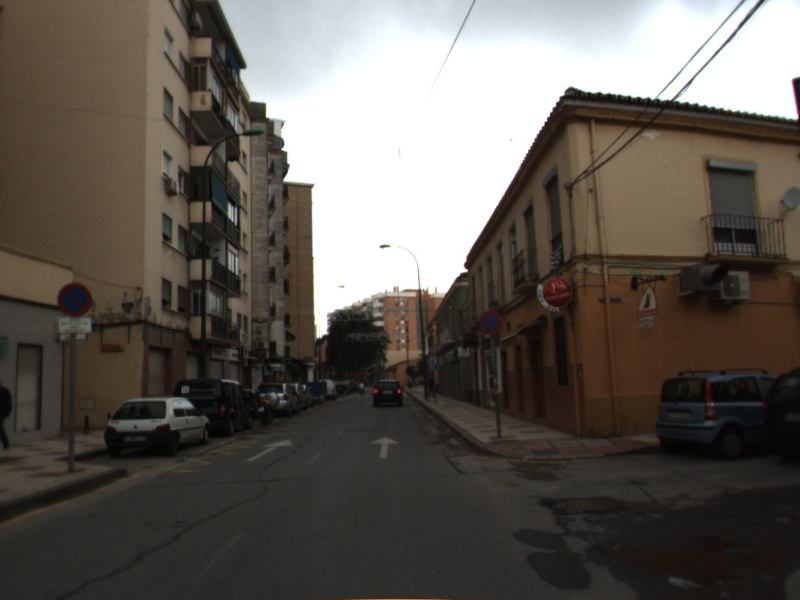STRAIGHT: (243, 436, 296, 464), (367, 433, 402, 460)
